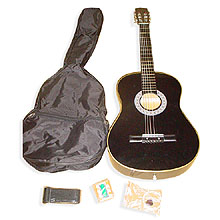guitar: (105, 7, 200, 182)
